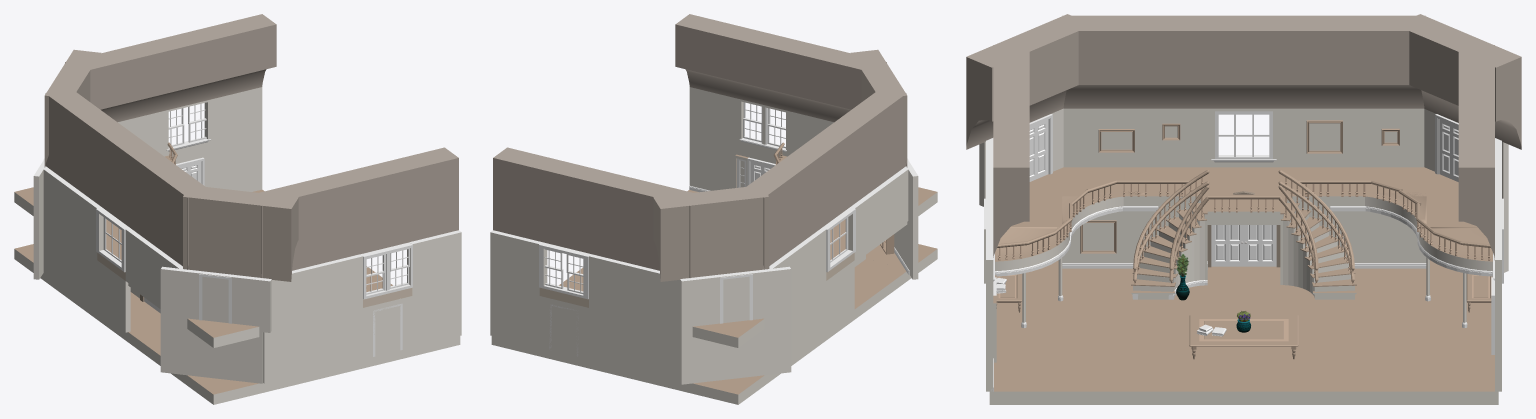
The model's file is Room1-Foyer-merged.glb.
3 views of the same model, side by side, from view 1: azimuth 30°, elevation 25°; view 2: azimuth 150°, elevation 25°; view 3: azimuth 270°, elevation 25° (orthographic). The views are drawn at different scales.
Visible parts, largest first — view 1: object1.139; view 2: object1.139; view 3: object1.139.
Boxes of the visible parts, <box> form: object1.139: <box>14,14,461,404</box>; object1.139: <box>490,14,937,404</box>; object1.139: <box>966,14,1521,404</box>.
Size of the model in its own units: 10.68 by 7.2 by 15.28.
63 materials, 5 textured.
